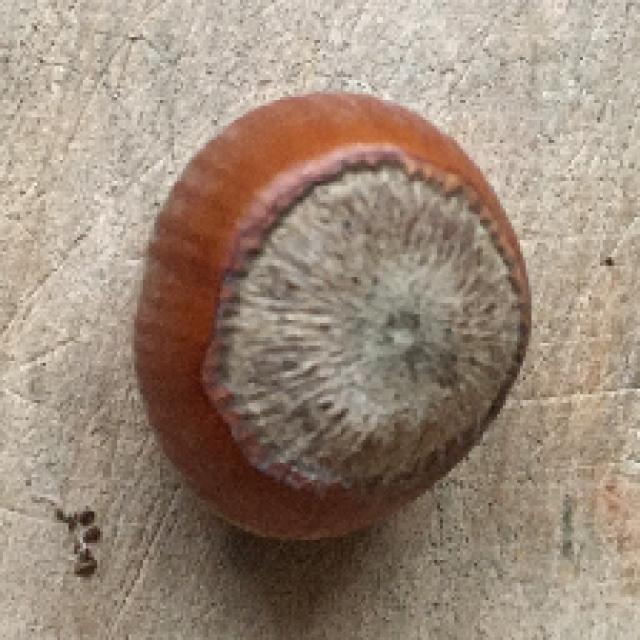qualityHazelnut: (132, 88, 536, 546)
